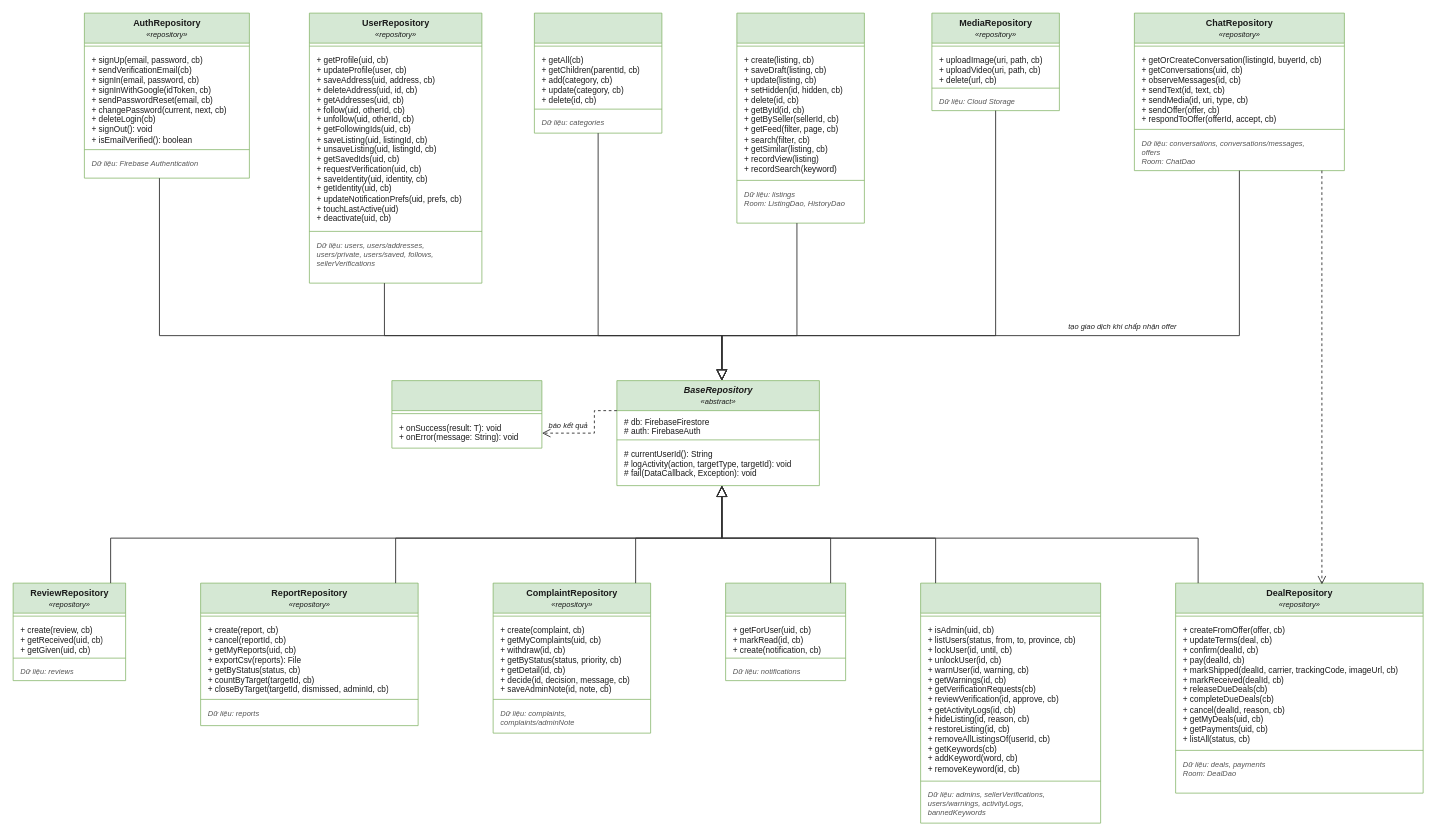
This 1436x836 diagram has some shape labels left out. The shapes that lost their labels are listed below. From the top down, each one's box as (x1, y1, x2, y2) in pixels, then its label:
(534, 12, 662, 133): CategoryRepository «repository»
(736, 12, 864, 223): ListingRepository «repository»
(391, 380, 542, 448): DataCallback «interface»
(725, 582, 846, 681): NotificationRepository «repository»
(920, 582, 1101, 823): AdminRepository «repository»
